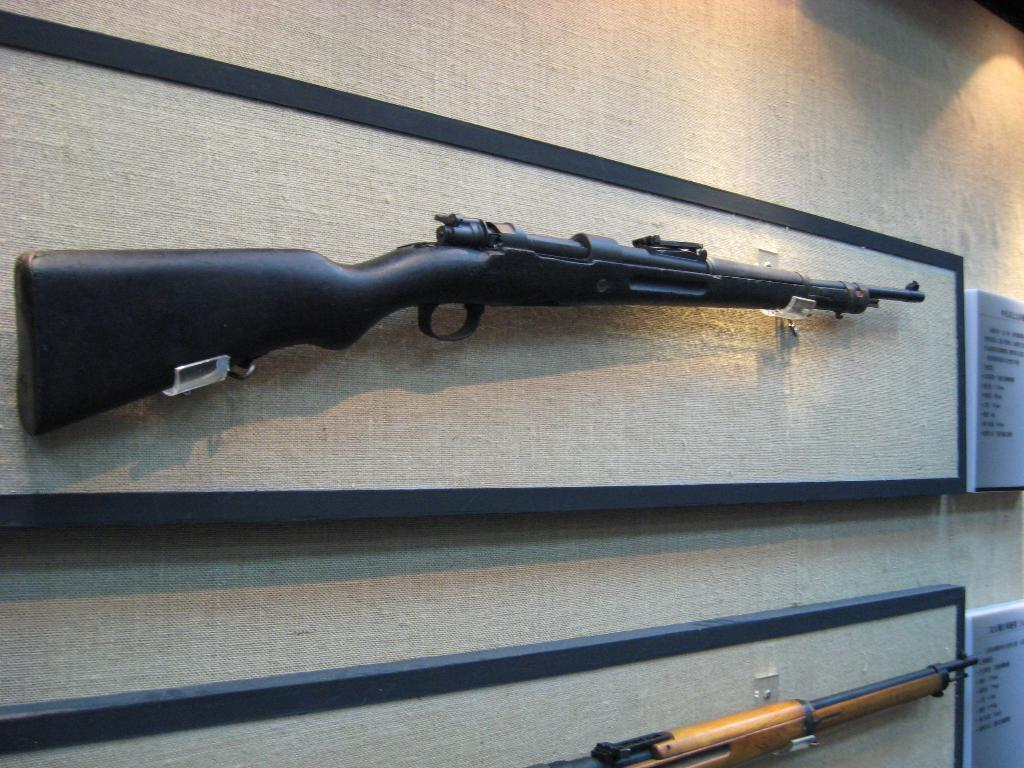Rifle: (12, 236, 918, 430)
